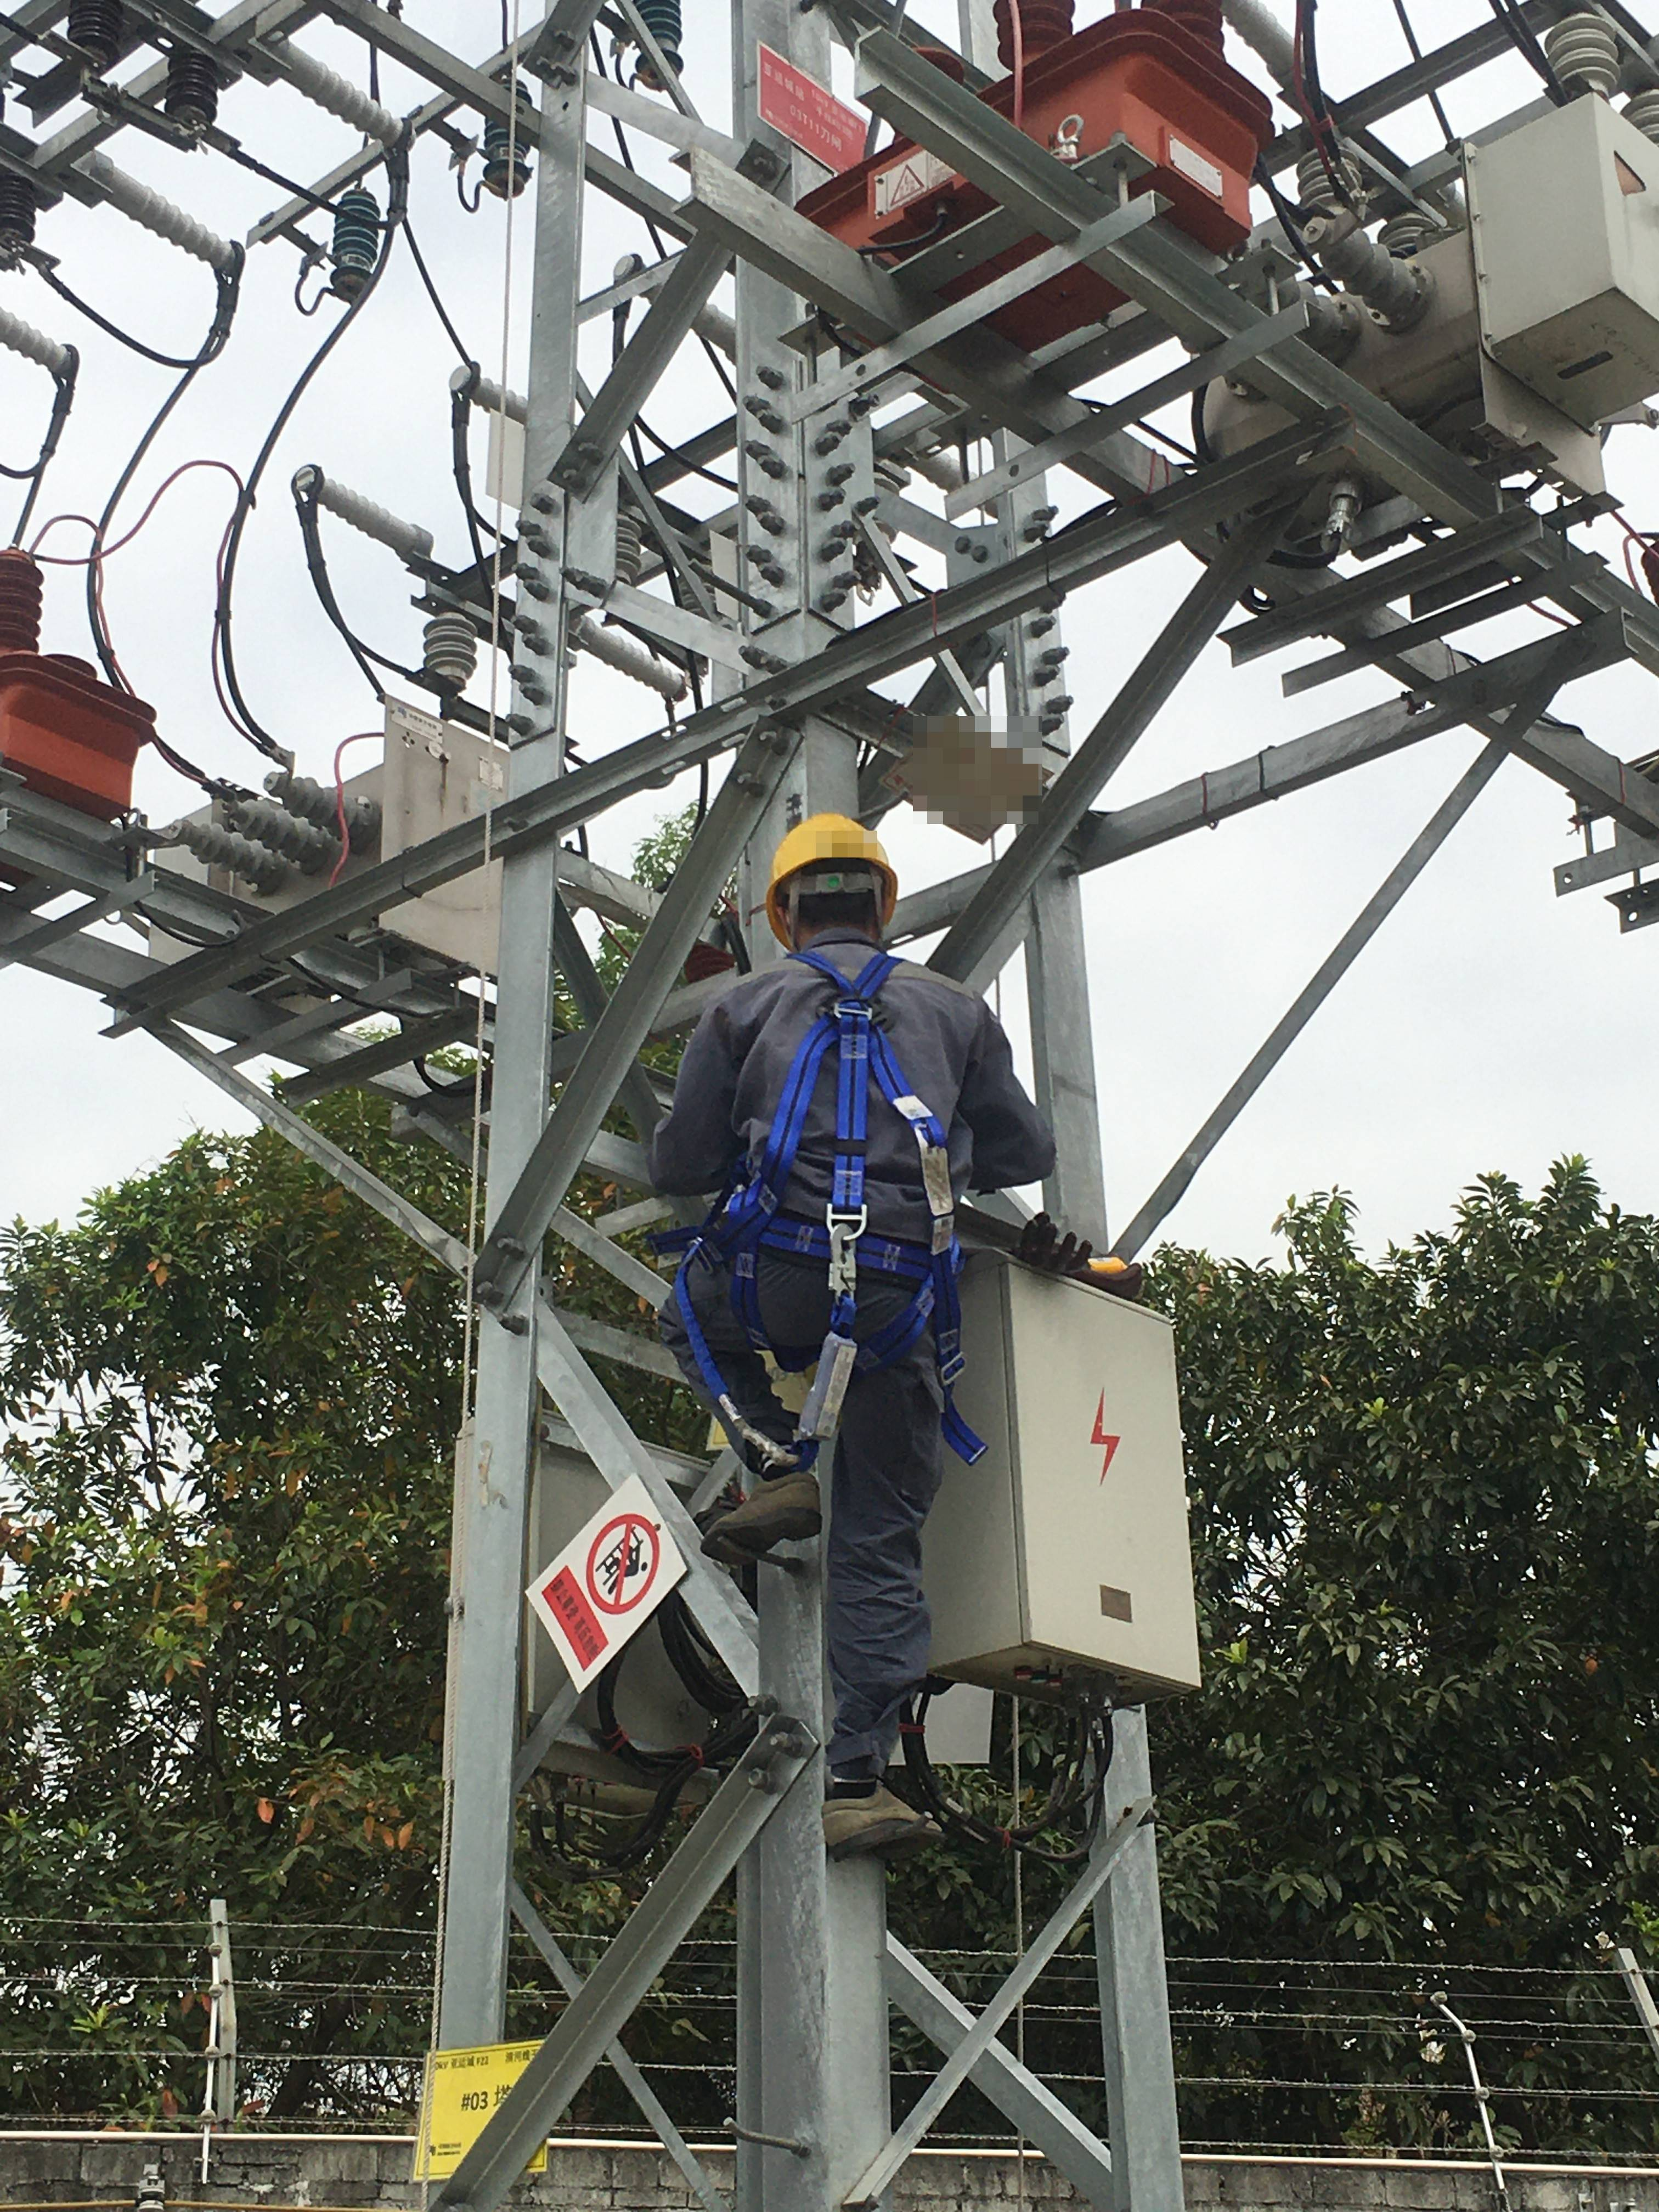downsuit: (674, 1271, 946, 1756)
upsuit: (687, 956, 997, 1266)
